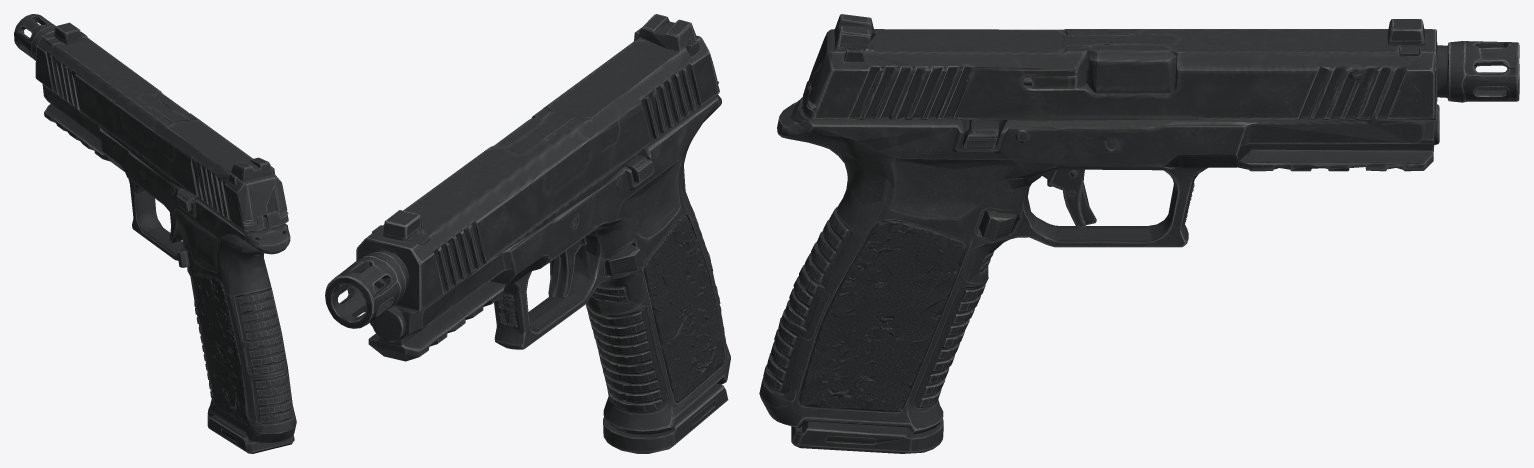
The model's file is pistol.glb.
3 renders of one model, left to right at view 1: azimuth 30°, elevation 25°; view 2: azimuth 150°, elevation 25°; view 3: azimuth 270°, elevation 25°, orthographic. The views are drawn at different scales.
Parts seen in each view (by area): view 1: output_unwrapped; view 2: output_unwrapped; view 3: output_unwrapped.
Boxes of the visible parts, box(x1,y1,x2,y2) form: output_unwrapped: box(14, 14, 296, 453); output_unwrapped: box(325, 14, 730, 453); output_unwrapped: box(759, 14, 1519, 453).
Bounding box in the file's own units: 0.0328 × 0.1562 × 0.2579.
Materials: 1 (1 with a texture image).
